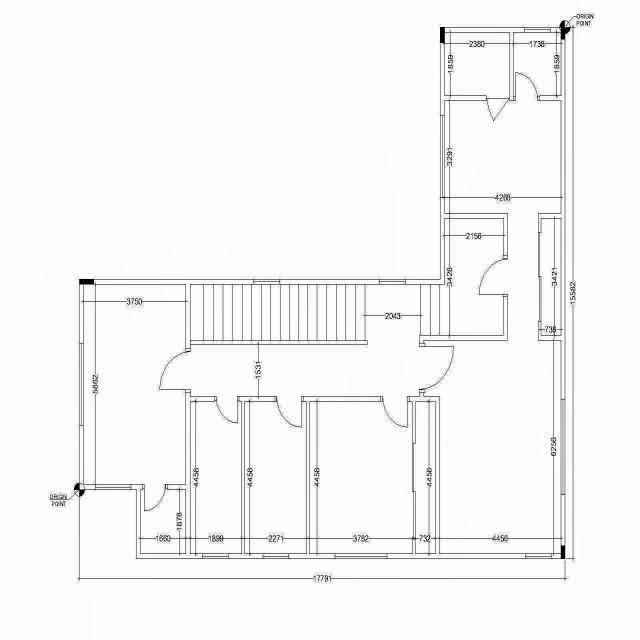Column: (79, 278, 94, 284), (560, 545, 566, 559), (560, 26, 566, 40), (440, 27, 445, 43)
Door: (419, 343, 454, 393), (158, 348, 190, 393), (478, 255, 508, 298), (380, 396, 410, 428), (274, 396, 304, 428), (513, 72, 540, 101), (214, 396, 240, 425), (142, 484, 168, 512), (486, 95, 509, 122)
Sliding Door: (412, 443, 416, 540), (538, 232, 541, 322)
Staircase: (190, 284, 450, 340)
Window: (560, 399, 566, 495), (440, 115, 445, 198), (79, 344, 84, 426), (334, 553, 388, 559), (95, 484, 131, 490), (525, 553, 552, 559), (379, 279, 406, 285), (253, 279, 280, 285), (202, 553, 228, 559), (263, 553, 289, 559), (524, 27, 550, 33)
